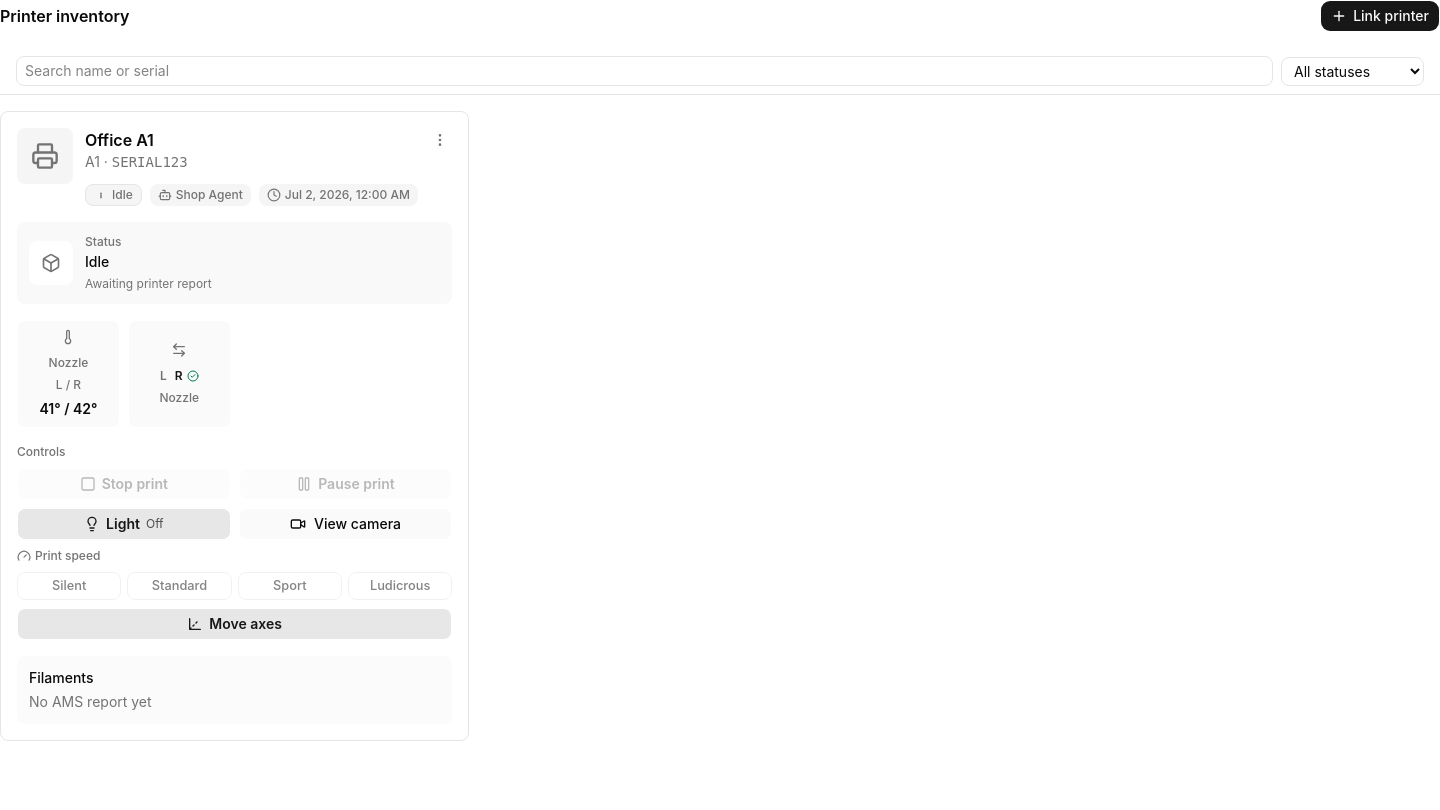
it: PrinterInventory › opens dual-nozzle temperature controls with active nozzle highlighted
The image size is (1440, 810).
Click the button with aria-label "Set nozzle temperatures". click: (68, 374)
box: [17,320,120,428]
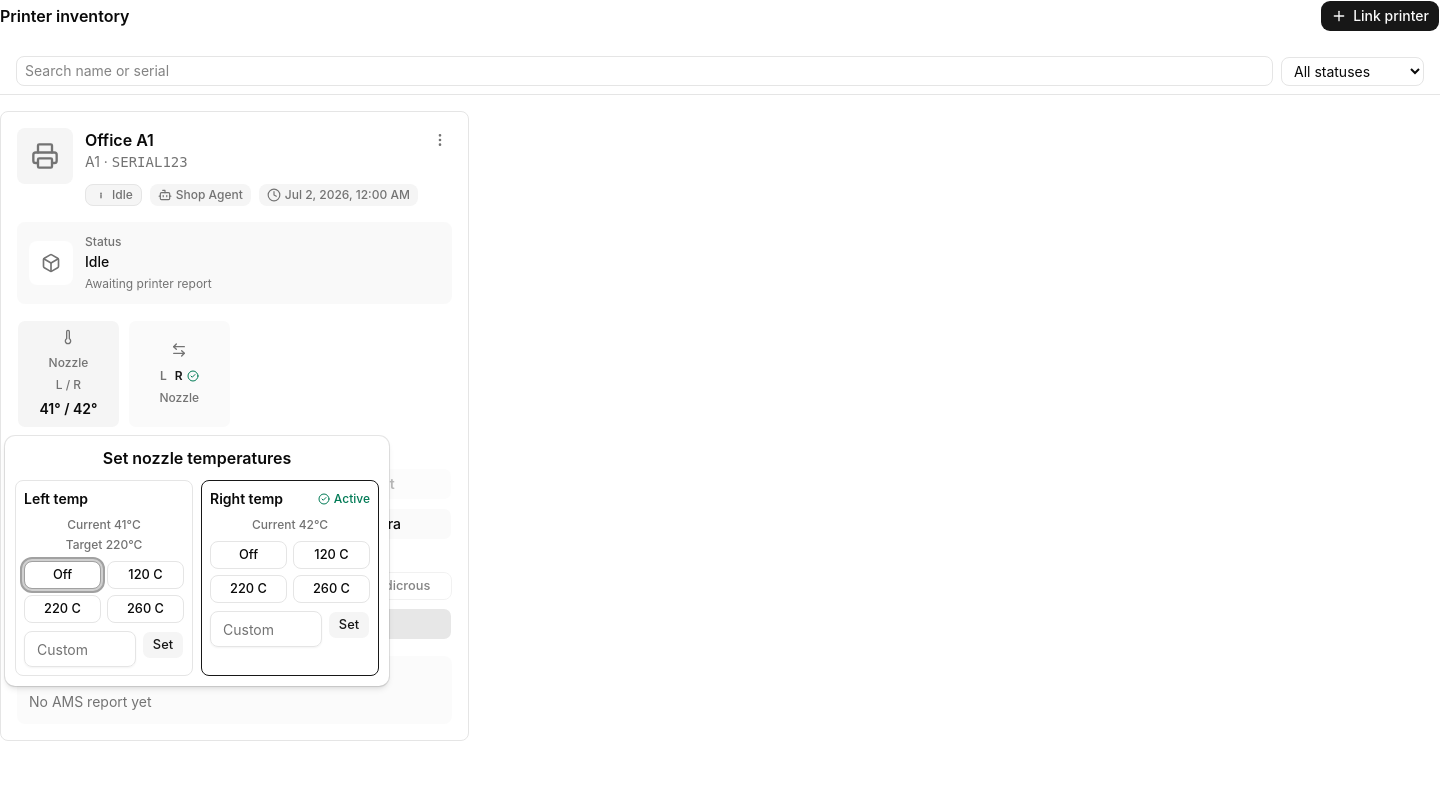
Check: the heading "Set nozzle temperatures" is shown, box [103,448,291,468]
Check: the form named "action" holds "set_hotend_temperature", box [210,541,287,569]
Check: the form named "temperature_celsius" holds "0", box [210,541,287,569]
